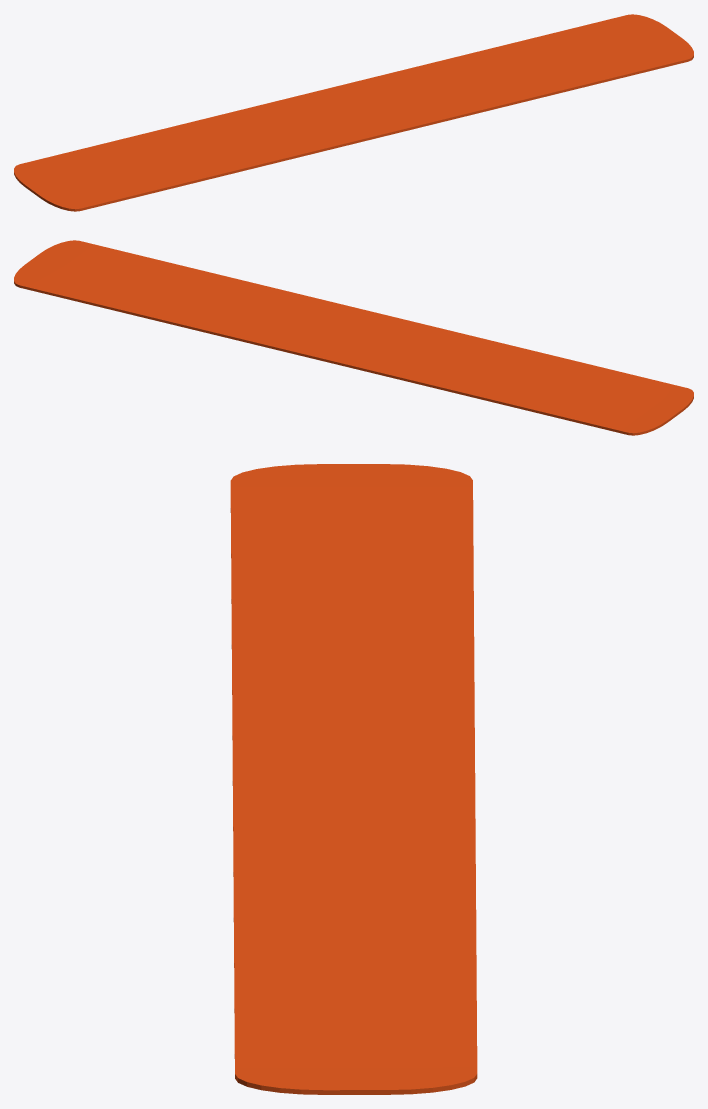
The model's file is liganormal.fbx.
3 views of the same model, one above another, from view 1: azimuth 30°, elevation 25°; view 2: azimuth 150°, elevation 25°; view 3: azimuth 270°, elevation 25° (orthographic). The views are drawn at different scales.
Visible parts, largest first — view 1: Cube.001; view 2: Cube.001; view 3: Cube.001.
Boxes of the visible parts, <box> form: Cube.001: <box>14,14,693,211</box>; Cube.001: <box>14,240,693,435</box>; Cube.001: <box>230,464,477,1094</box>.
Size of the model in its own units: 58.01 by 0.2073 by 9.66.
